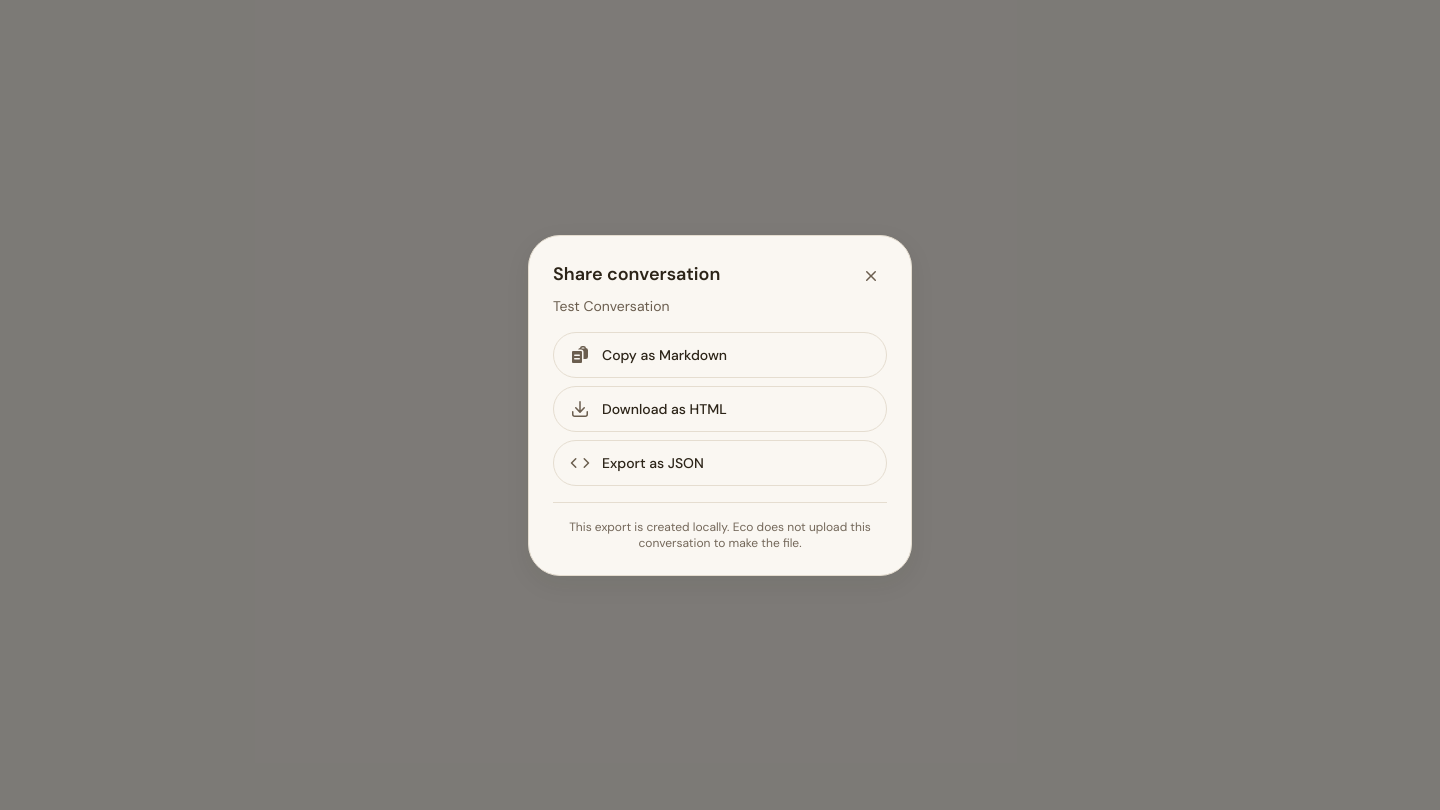
Test case: ShareDialog › shows visible local success confirmation after copy
The width and height of the screenshot is (1440, 810).
Click the button "Copy as Markdown".
click(720, 354)  # box x1=553 y1=332 x2=887 y2=378
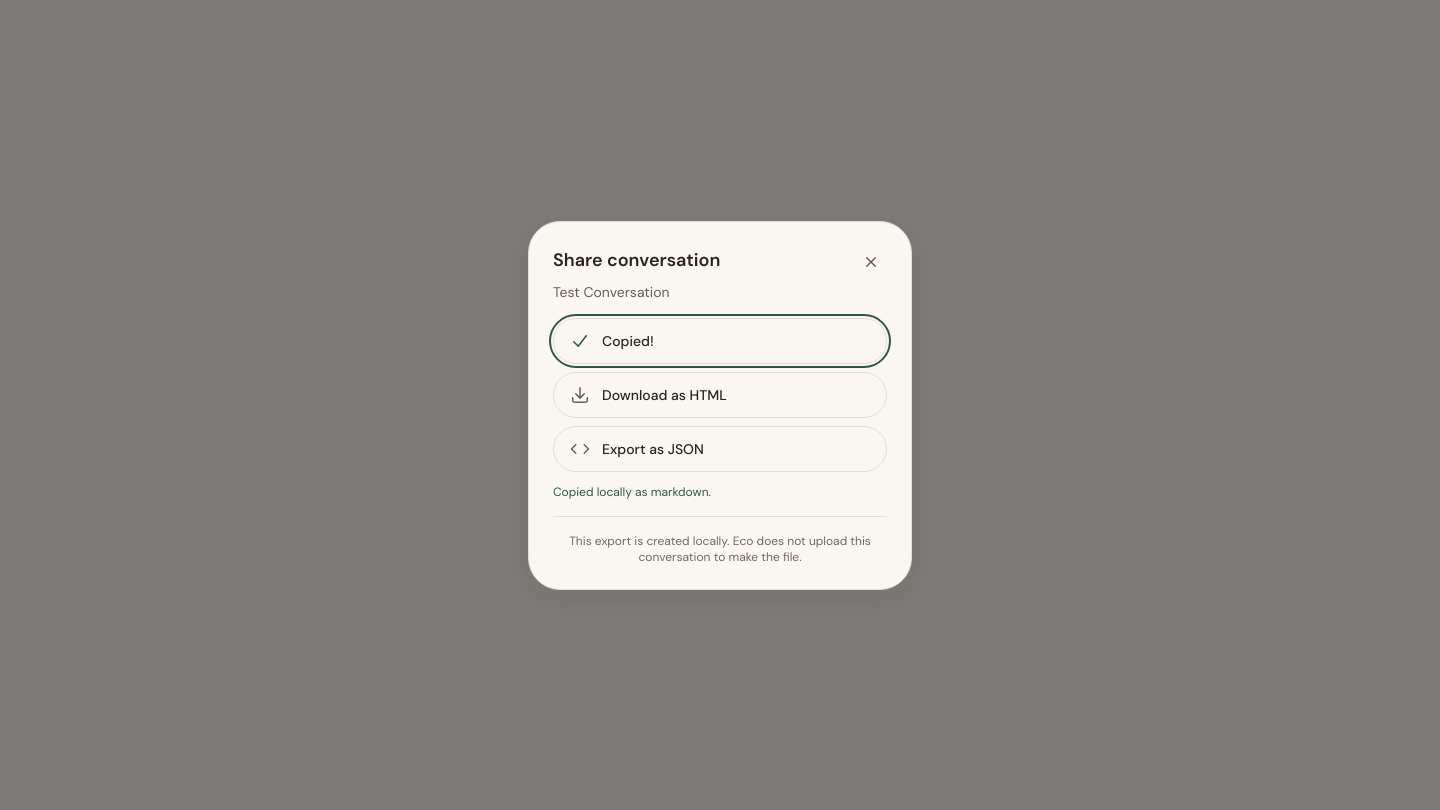
Result: the text "Copied locally as markdown." is shown at x1=553 y1=484 x2=711 y2=500
